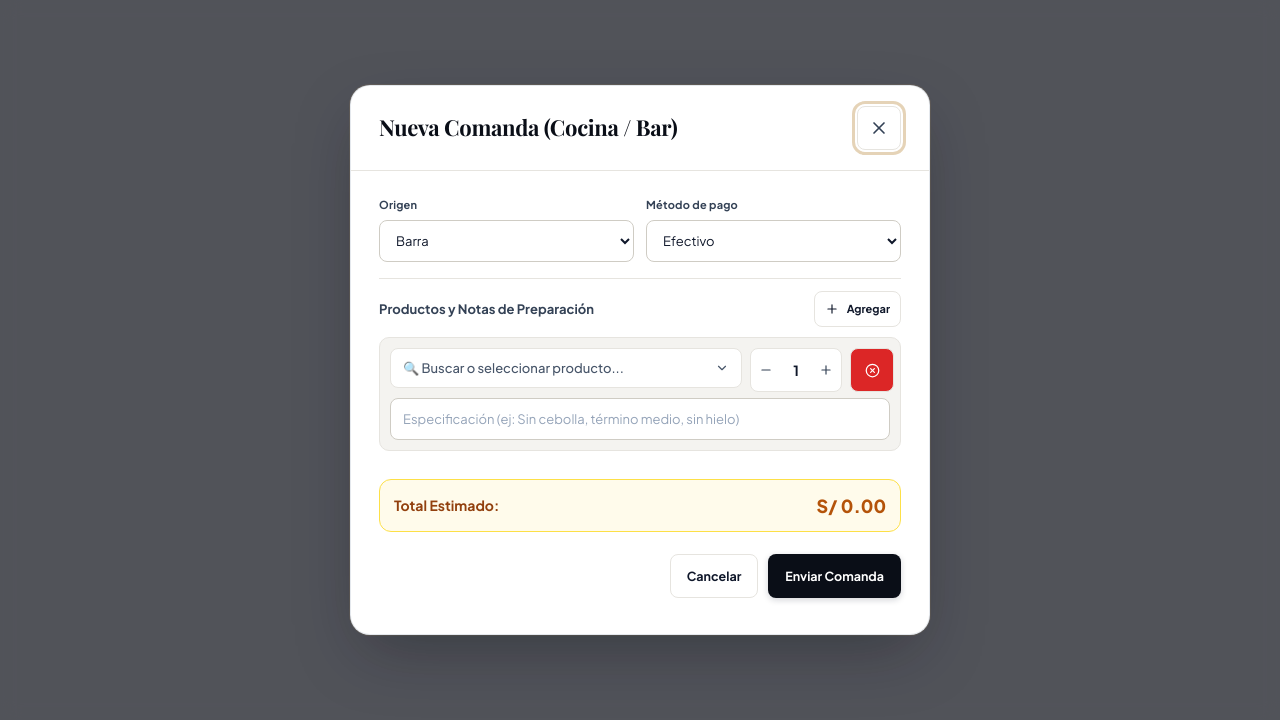
Test: OrderFormModal journey › rejects an empty cart with an actionable form error
Click the button "Enviar Comanda" at (835, 576), box [768,554,901,598]
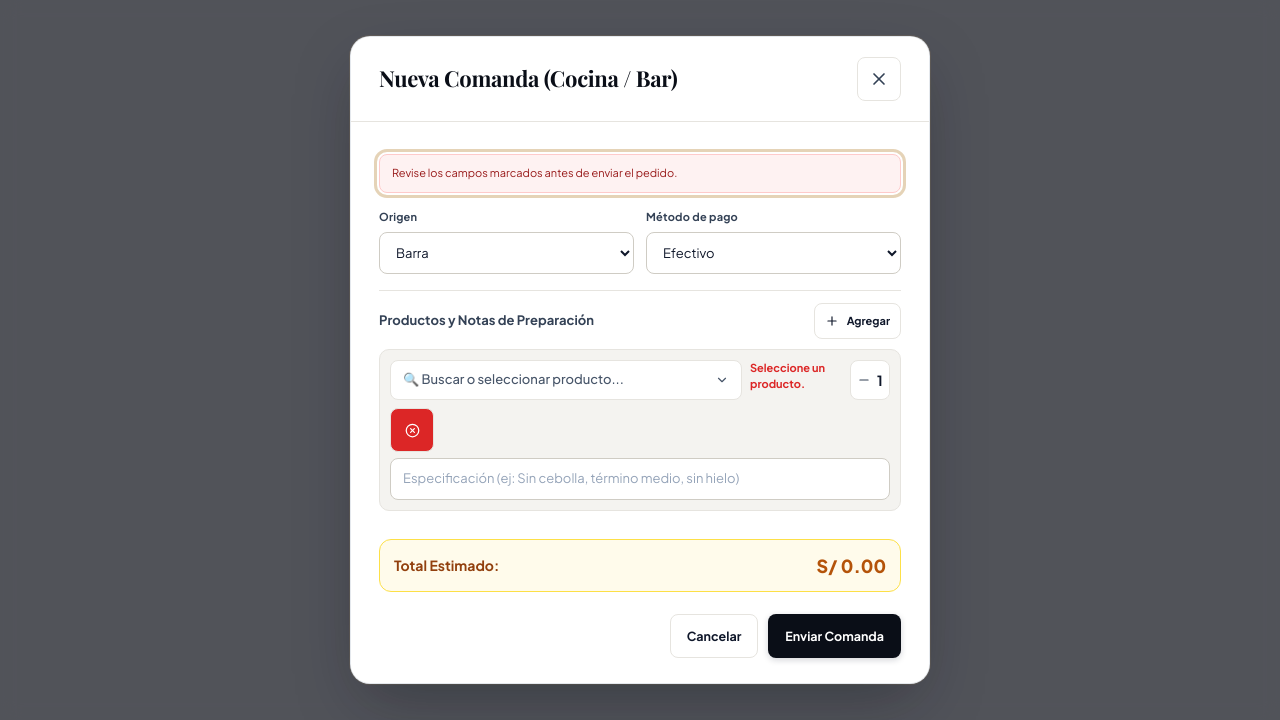
Expected: the text "Revise los campos marcados antes de enviar el pedido." is shown, [379,154,901,192]
Expected: the text "Seleccione un producto." is shown, [750,361,825,390]
